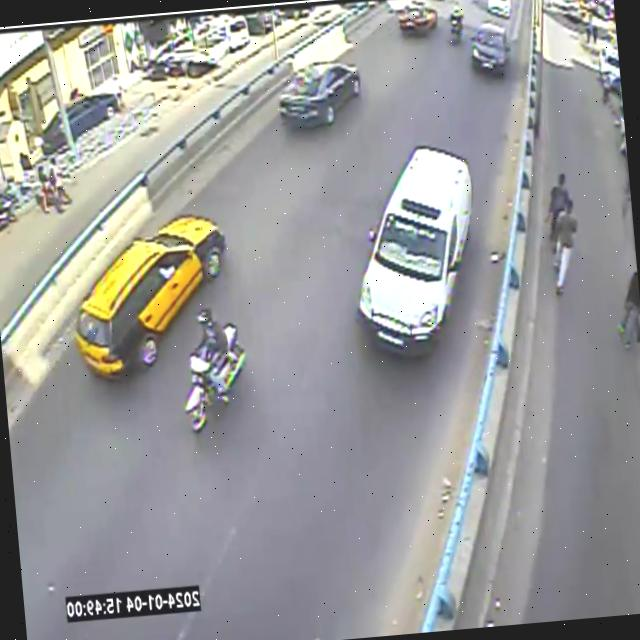car: (75, 214, 226, 377), (359, 146, 473, 351), (279, 61, 360, 124), (472, 22, 510, 75)
